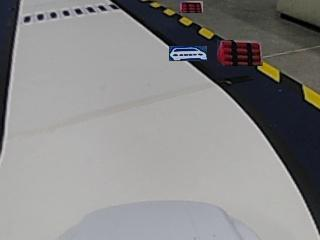crosswalk: (22, 3, 119, 22)
